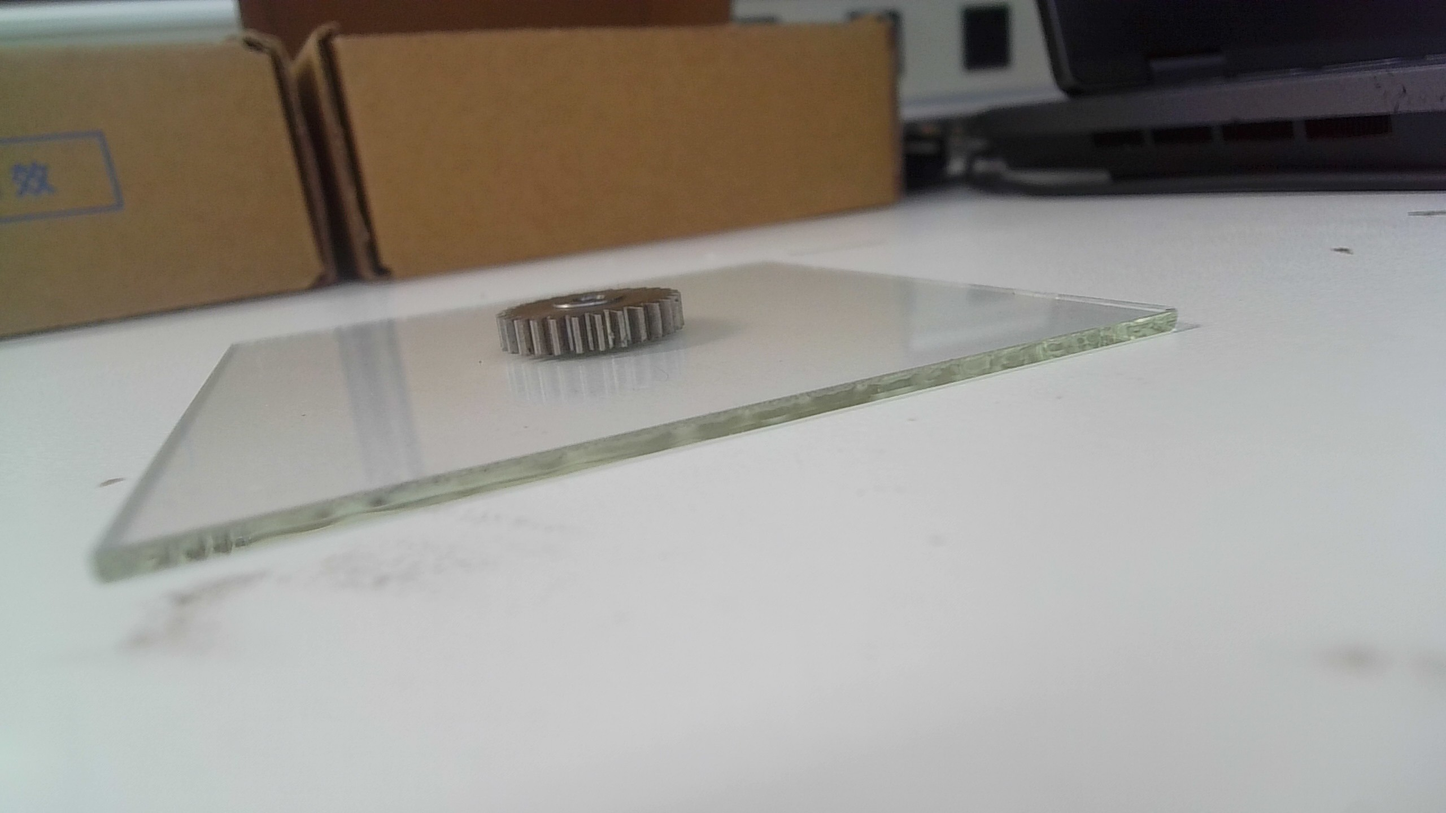gear: (493, 285, 689, 363)
